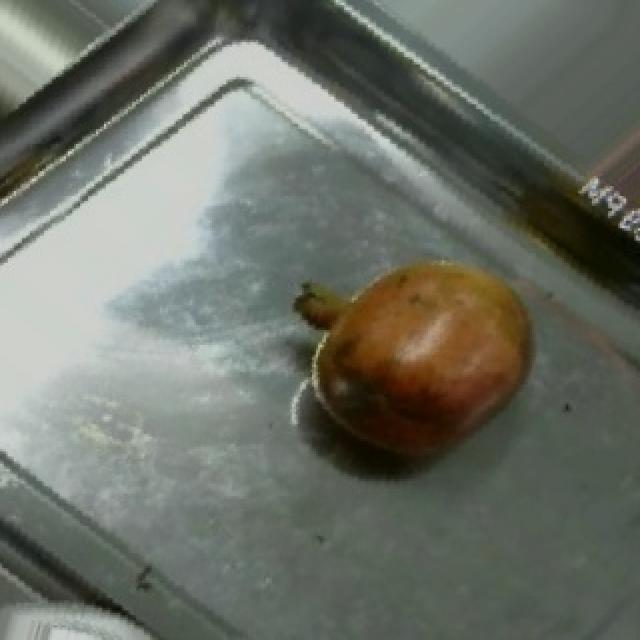fruit: (272, 228, 558, 491)
